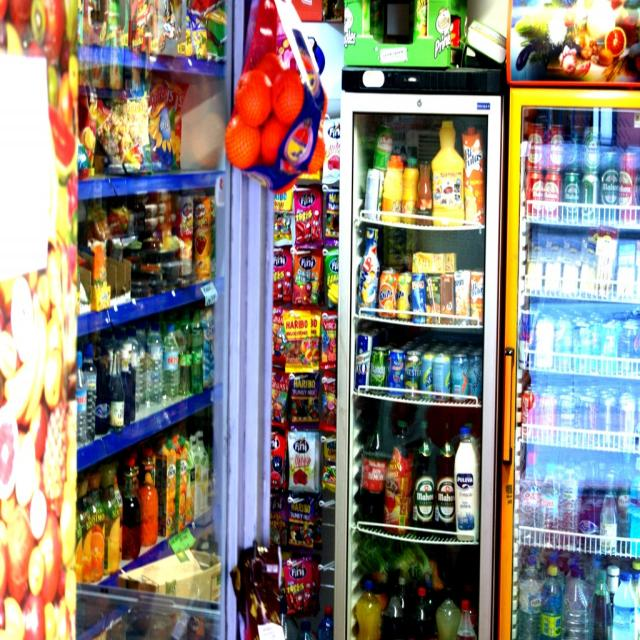refrigerator: (341, 79, 499, 639), (86, 49, 216, 596), (518, 97, 632, 640)
